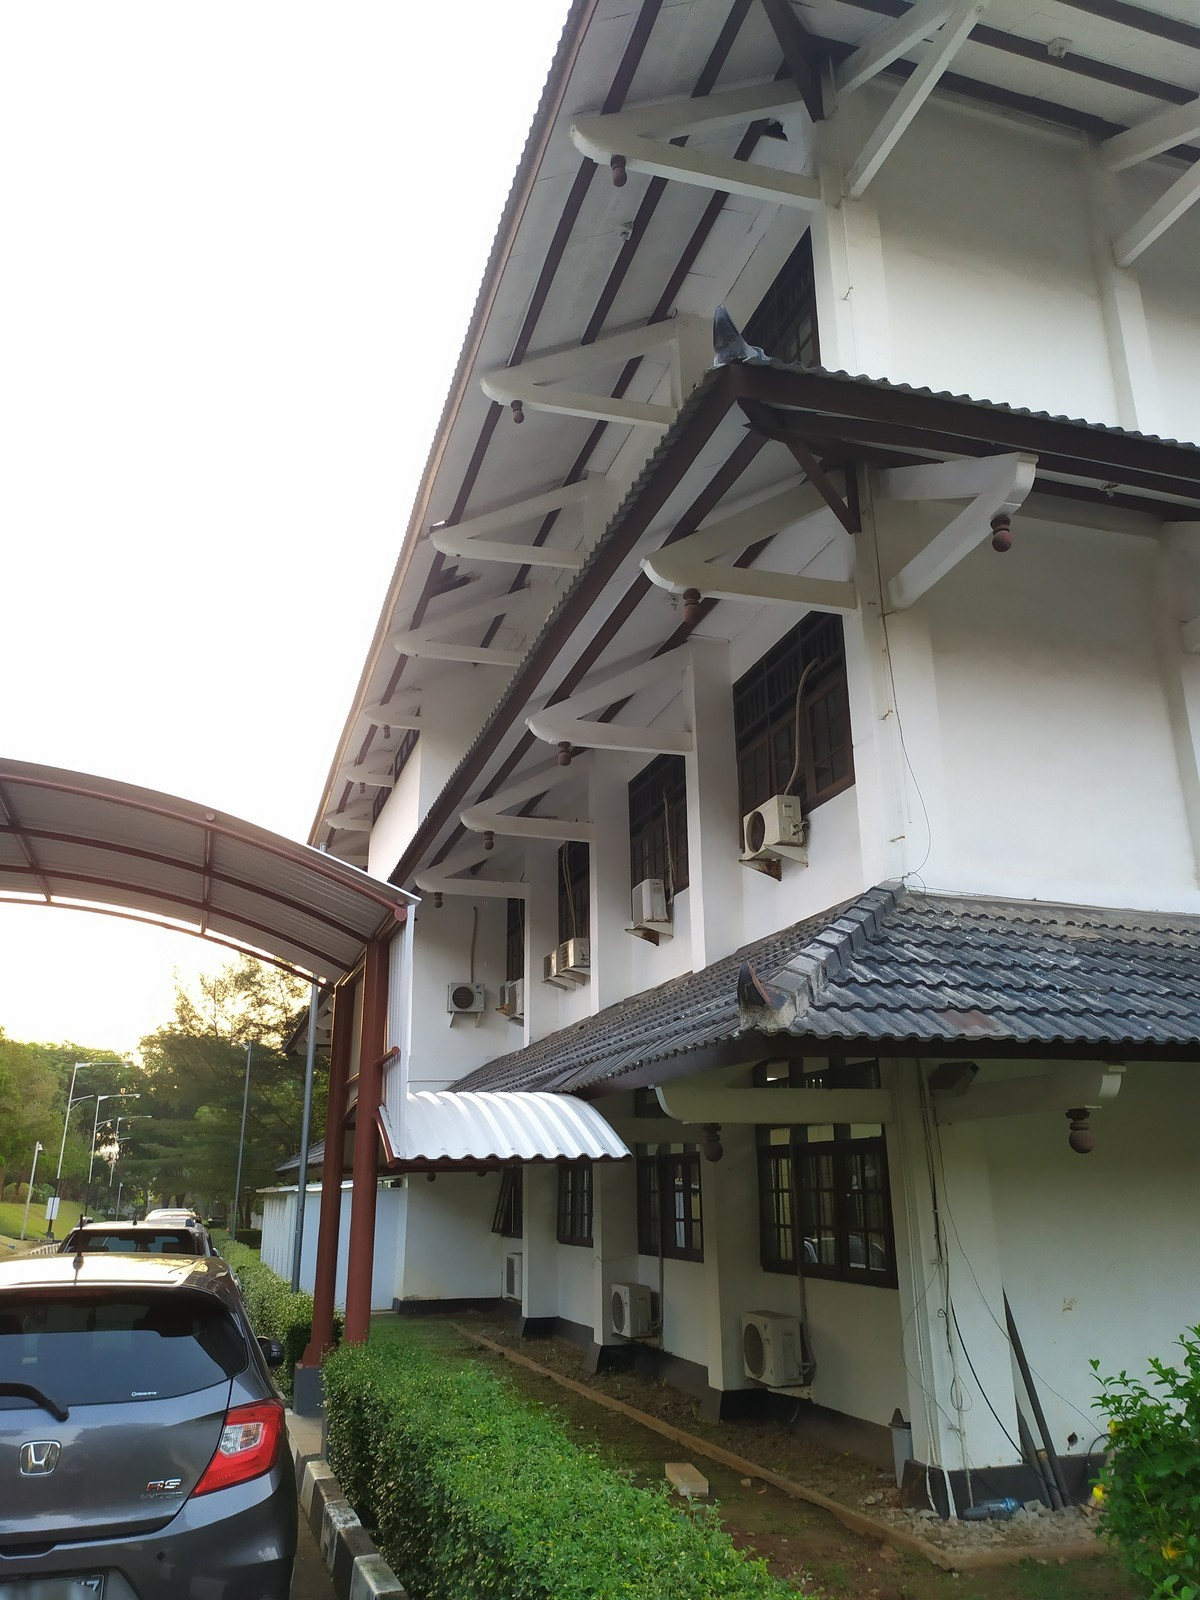concrete beam: (637, 139, 818, 213), (710, 559, 853, 617), (545, 389, 671, 432), (454, 874, 534, 903)
concrete column: (886, 1060, 1032, 1516), (841, 486, 961, 894), (792, 91, 906, 375), (677, 634, 758, 955), (1087, 146, 1167, 433), (692, 1117, 768, 1410), (574, 748, 642, 1013), (594, 1143, 639, 1362), (517, 824, 561, 1038), (511, 1160, 561, 1330)
